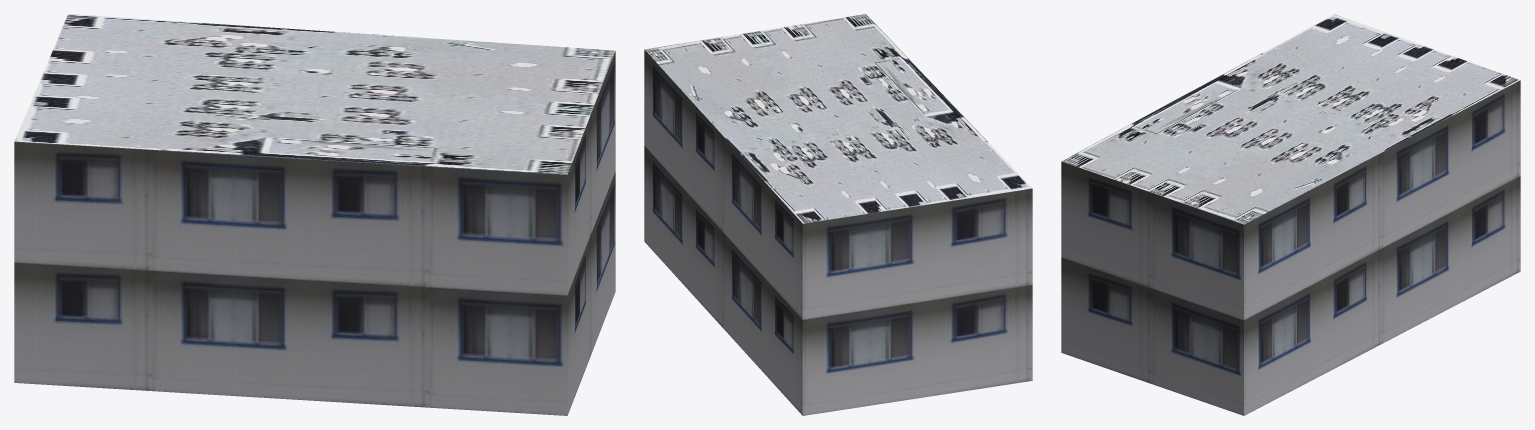
The model's file is ResTex__3357.fbx.
3 renders of one model, left to right at view 1: azimuth 30°, elevation 25°; view 2: azimuth 150°, elevation 25°; view 3: azimuth 270°, elevation 25°, orthographic. The views are drawn at different scales.
Parts seen in each view (by area): view 1: CityEngineMaterial_9_m, CityEngineMaterial_m; view 2: CityEngineMaterial_9_m, CityEngineMaterial_m; view 3: CityEngineMaterial_9_m, CityEngineMaterial_m.
Part boxes in pixels (left/top/right/bottom): CityEngineMaterial_9_m: left=14, top=51, right=615, bottom=415; CityEngineMaterial_m: left=14, top=14, right=615, bottom=174; CityEngineMaterial_9_m: left=644, top=49, right=1032, bottom=415; CityEngineMaterial_m: left=645, top=14, right=1032, bottom=223; CityEngineMaterial_9_m: left=1061, top=80, right=1520, bottom=415; CityEngineMaterial_m: left=1062, top=14, right=1520, bottom=224.
Size of the model in its own units: 14.15 by 6 by 13.04.
2 materials, 2 textured.
